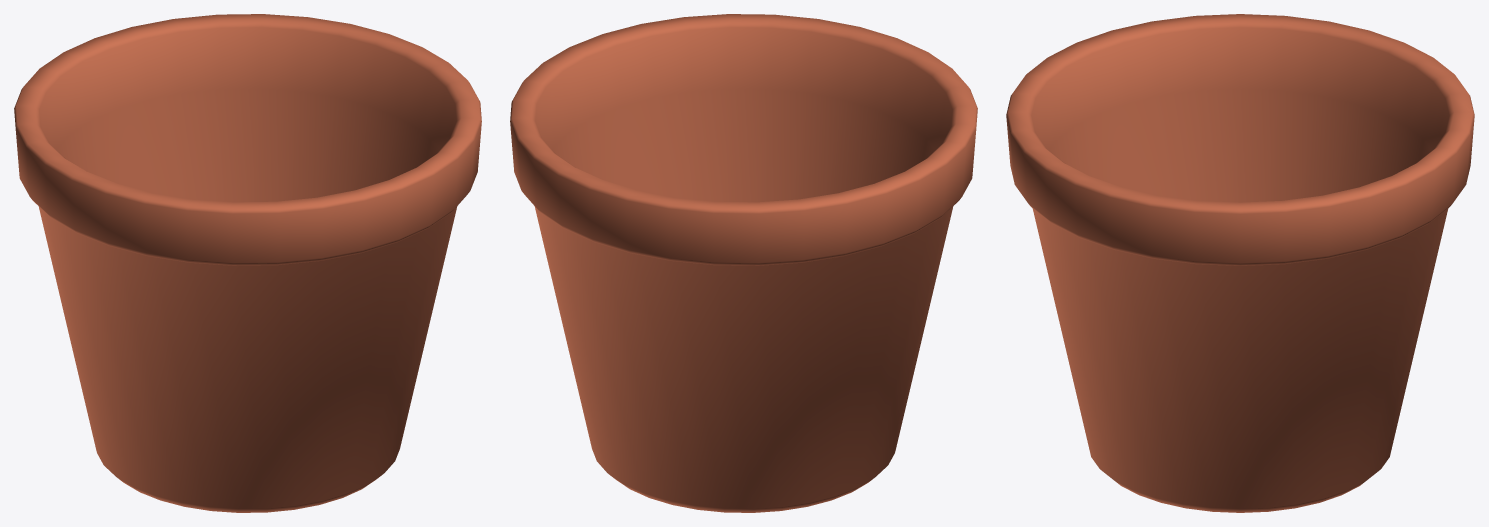
Rendered from pot.glb.
3 renders of one model, left to right at view 1: azimuth 30°, elevation 25°; view 2: azimuth 150°, elevation 25°; view 3: azimuth 270°, elevation 25°, orthographic.
Parts seen in each view (by area): view 1: Cylinder; view 2: Cylinder; view 3: Cylinder.
Boxes of the visible parts, x1,y1,x2,y2 form: Cylinder: [14, 14, 481, 512]; Cylinder: [510, 14, 977, 512]; Cylinder: [1006, 14, 1474, 512].
Size of the model in its own units: 2.48 by 1.99 by 2.48.
1 material, 1 textured.
